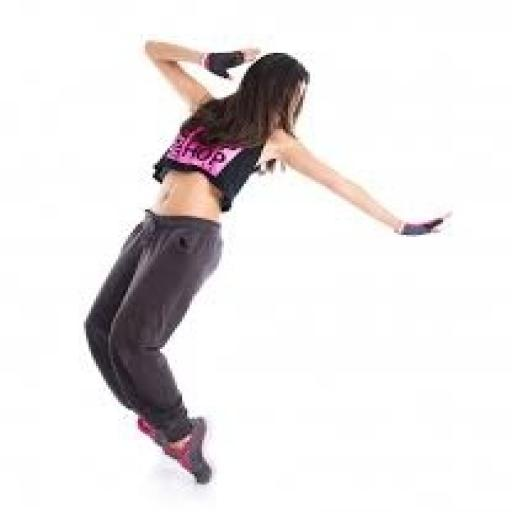dancing: (79, 34, 453, 489)
